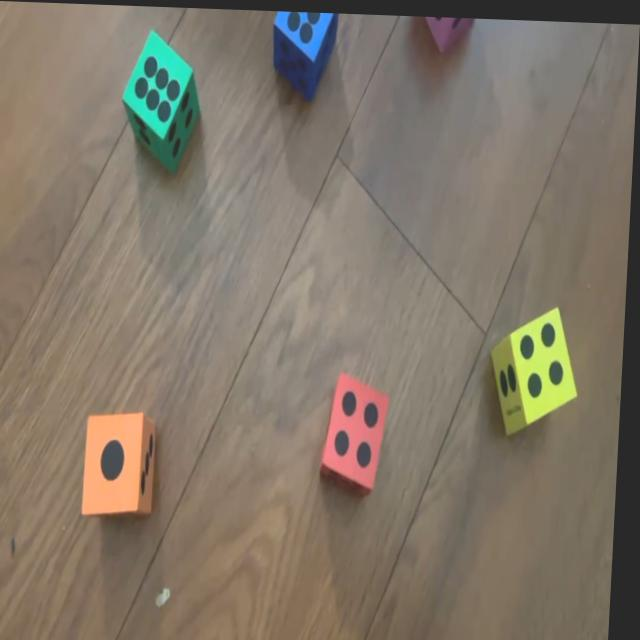blue_block: (270, 8, 338, 92)
red_block: (322, 368, 395, 494)
